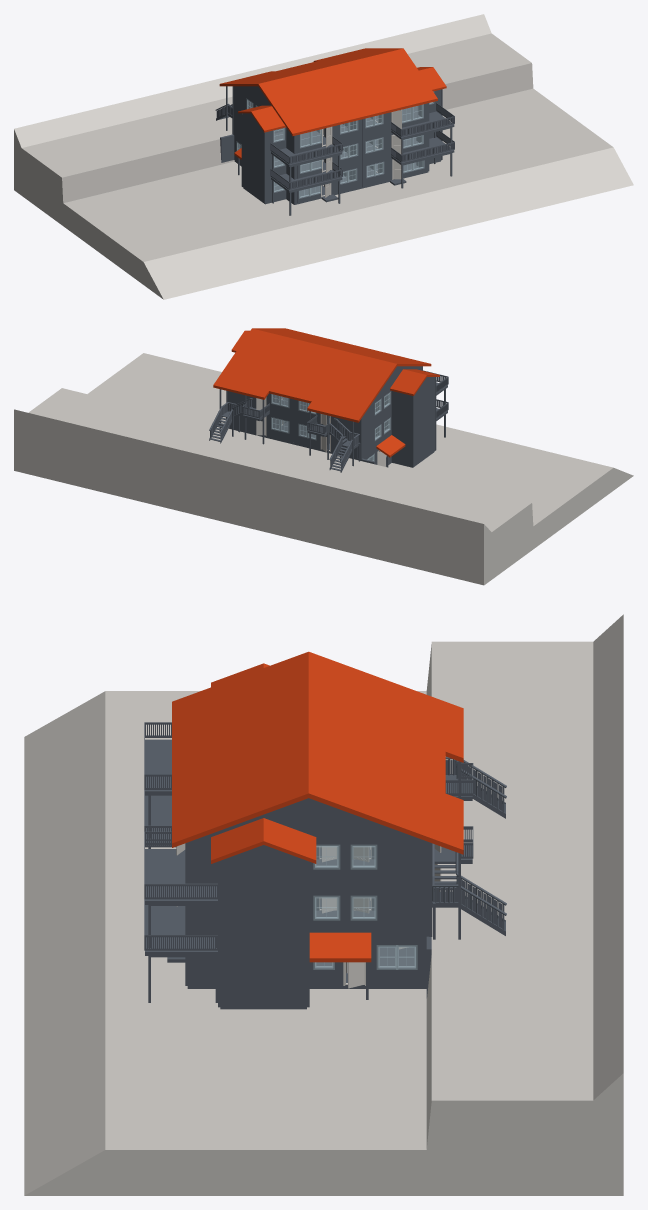
3 renders of one model, top to bottom at view 1: azimuth 30°, elevation 25°; view 2: azimuth 150°, elevation 25°; view 3: azimuth 270°, elevation 25°, orthographic. The views are drawn at different scales.
Parts seen in each view (by area): view 1: 3bJHrHGeP9gwyMp03TSu36, 2jNS4epkX0o8kwdZd46FJG, 2hj1Ns7Zb0lfpMXInHA2L8, 2MtaqsbAb1RfS2Uf7UEQCa, 2PDzunblb0oO30v0_L2PMp, 2oYvRw4dj2PBGBhoWpjSP1, 3T7zpAIbn7NRqi_qTwRi5_, 0jFmtl7G14JO2Fg0jylumy, 3uGvThN_f56xb3$OLKimqY, 2PWnikETj3kPw5GWc6oZwK, 0C7FU4Vv50NAPilEP4UdxM, 2CFOFXQqrE7RzWm9FbEn3_ (+11 smaller); view 2: 3bJHrHGeP9gwyMp03TSu36, 2MtaqsbAb1RfS2Uf7UEQCa, 3T7zpAIbn7NRqi_qTwRi5_, 1OtZnJoWzC9RsiG3T5_TMu, 0UzAJVSEj0pxfxgxzewycp, 2sdw$X2bT4Cv8k0IYxzZQH, 2jNS4epkX0o8kwdZd46FJG, 2hj1Ns7Zb0lfpMXInHA2L8, 29JyzHGvr5uR32OcWJMMmn, 3WJjQ8YlrC$9cvwVC9ODHI, 3q6vz8roXEJOS9AP5H_GCy, 395VikWrvDFuKRY7rzGQbV (+8 smaller); view 3: 3bJHrHGeP9gwyMp03TSu36, 3T7zpAIbn7NRqi_qTwRi5_, 2MtaqsbAb1RfS2Uf7UEQCa, 2hj1Ns7Zb0lfpMXInHA2L8, 2jNS4epkX0o8kwdZd46FJG, 0bE9NnipXBGh4QGgULRMm6, 2g8i4gnln3HRViwq703k8D, 0PBI6S7VXAxPNGSMSZI7sd, 1tDCHdXnn8JBngRAP3X4FB, 2Ly9M6atzEfPCukEZe_8kw, 3zKl7BcUL4FuE3X79__rdA, 2sdw$X2bT4Cv8k0IYxzZQH (+15 smaller).
Boxes of the visible parts, <box> form: 3bJHrHGeP9gwyMp03TSu36: <box>14,14,633,299</box>; 2jNS4epkX0o8kwdZd46FJG: <box>258,66,365,136</box>; 2hj1Ns7Zb0lfpMXInHA2L8: <box>331,48,437,118</box>; 2MtaqsbAb1RfS2Uf7UEQCa: <box>219,66,329,86</box>; 2PDzunblb0oO30v0_L2PMp: <box>362,122,425,162</box>; 2oYvRw4dj2PBGBhoWpjSP1: <box>362,147,425,187</box>; 3T7zpAIbn7NRqi_qTwRi5_: <box>297,48,402,66</box>; 0jFmtl7G14JO2Fg0jylumy: <box>297,163,360,202</box>; 3uGvThN_f56xb3$OLKimqY: <box>297,137,360,178</box>; 2PWnikETj3kPw5GWc6oZwK: <box>362,104,425,136</box>; 0C7FU4Vv50NAPilEP4UdxM: <box>298,119,360,152</box>; 2CFOFXQqrE7RzWm9FbEn3_: <box>242,137,263,177</box>; 3bJHrHGeP9gwyMp03TSu36: <box>14,353,633,585</box>; 2MtaqsbAb1RfS2Uf7UEQCa: <box>290,346,397,422</box>; 3T7zpAIbn7NRqi_qTwRi5_: <box>213,328,324,399</box>; 1OtZnJoWzC9RsiG3T5_TMu: <box>329,418,359,472</box>; 0UzAJVSEj0pxfxgxzewycp: <box>230,402,292,442</box>; 2sdw$X2bT4Cv8k0IYxzZQH: <box>209,398,252,443</box>; 2jNS4epkX0o8kwdZd46FJG: <box>326,346,431,366</box>; 2hj1Ns7Zb0lfpMXInHA2L8: <box>252,328,358,346</box>; 29JyzHGvr5uR32OcWJMMmn: <box>362,412,391,458</box>; 3WJjQ8YlrC$9cvwVC9ODHI: <box>390,369,426,395</box>; 3q6vz8roXEJOS9AP5H_GCy: <box>362,387,391,432</box>; 395VikWrvDFuKRY7rzGQbV: <box>294,417,357,458</box>; 3bJHrHGeP9gwyMp03TSu36: <box>24,614,623,1195</box>; 3T7zpAIbn7NRqi_qTwRi5_: <box>308,722,463,854</box>; 2MtaqsbAb1RfS2Uf7UEQCa: <box>308,652,463,772</box>; 2hj1Ns7Zb0lfpMXInHA2L8: <box>172,722,308,847</box>; 2jNS4epkX0o8kwdZd46FJG: <box>172,652,308,772</box>; 0bE9NnipXBGh4QGgULRMm6: <box>309,885,429,936</box>; 2g8i4gnln3HRViwq703k8D: <box>309,835,426,885</box>; 0PBI6S7VXAxPNGSMSZI7sd: <box>221,906,306,957</box>; 1tDCHdXnn8JBngRAP3X4FB: <box>221,856,307,906</box>; 2Ly9M6atzEfPCukEZe_8kw: <box>221,957,306,1006</box>; 3zKl7BcUL4FuE3X79__rdA: <box>309,936,426,985</box>; 2sdw$X2bT4Cv8k0IYxzZQH: <box>432,843,506,935</box>.
Size of the model in its own units: 53.5 by 13.43 by 29.54.
